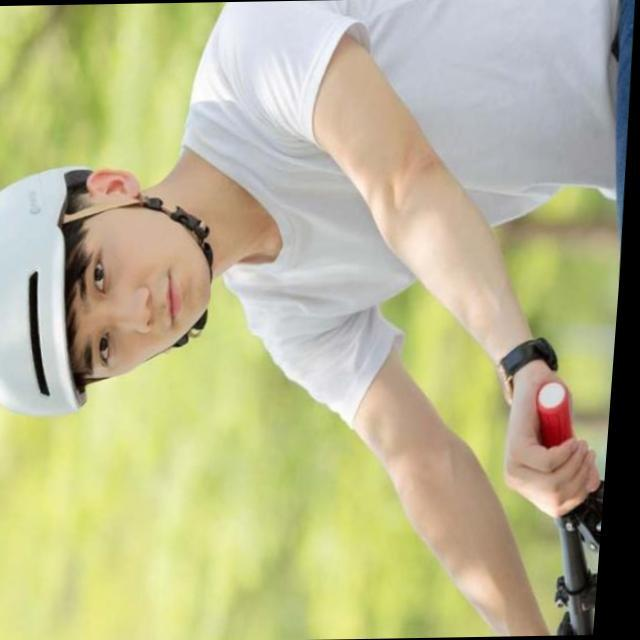with_helmet: (0, 164, 213, 415)
